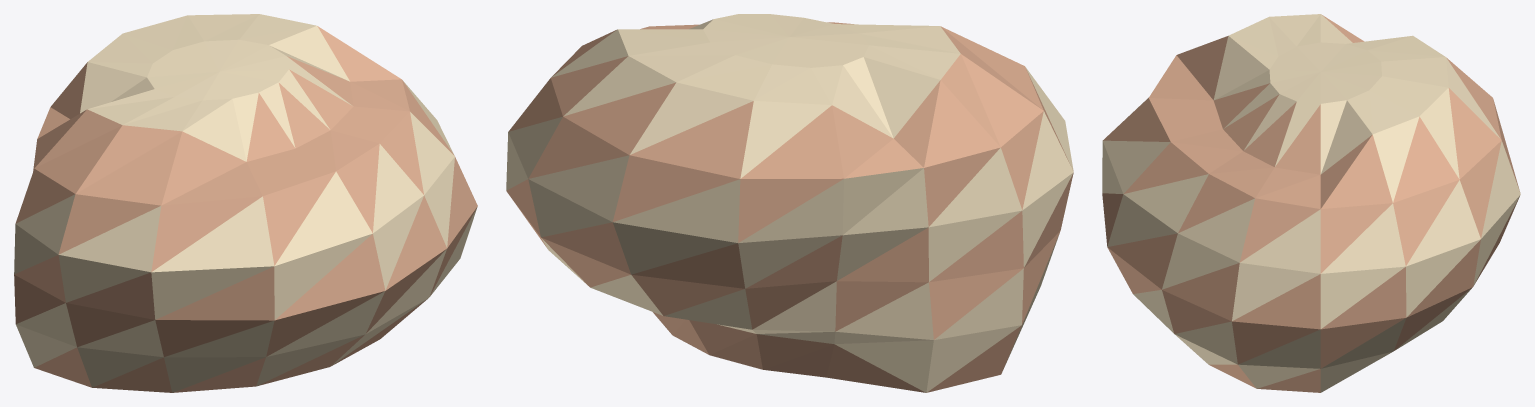
The model's file is SM_Desert_Rock_B.glb.
3 renders of one model, left to right at view 1: azimuth 30°, elevation 25°; view 2: azimuth 150°, elevation 25°; view 3: azimuth 270°, elevation 25°, orthographic. The views are drawn at different scales.
Visible parts, largest first — view 1: SM_Desert_Rock_B; view 2: SM_Desert_Rock_B; view 3: SM_Desert_Rock_B.
Boxes of the visible parts, x1,y1,x2,y2 form: SM_Desert_Rock_B: [14, 14, 477, 392]; SM_Desert_Rock_B: [506, 14, 1073, 392]; SM_Desert_Rock_B: [1102, 14, 1520, 392].
Bounding box in the file's own units: 2.21 × 1.23 × 1.89.
